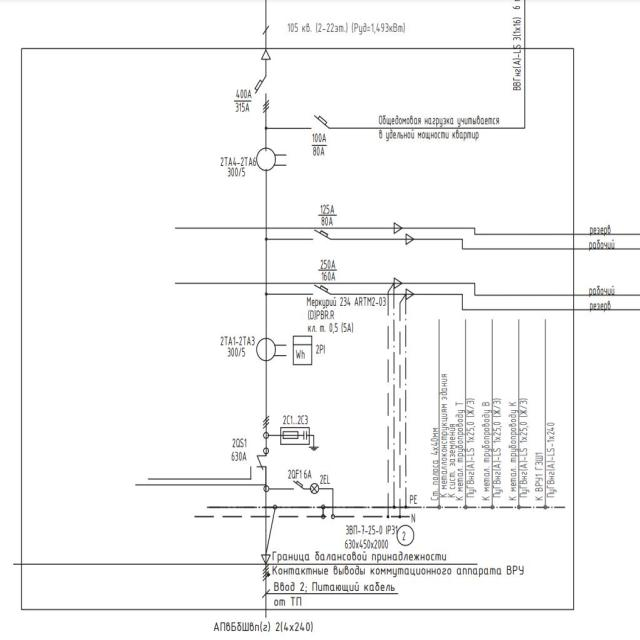-: (305, 294, 388, 335), (229, 88, 253, 114), (318, 253, 338, 280), (318, 200, 337, 228), (310, 132, 328, 159), (226, 344, 249, 359), (226, 166, 248, 179), (230, 451, 248, 463), (302, 467, 314, 480)
HL: (309, 481, 320, 494)
QF: (254, 76, 271, 114), (309, 227, 332, 244), (308, 283, 330, 300), (289, 478, 306, 492)
TT: (256, 145, 288, 174), (256, 336, 288, 364)
WH: (293, 333, 313, 367)
switch: (249, 452, 268, 472)
